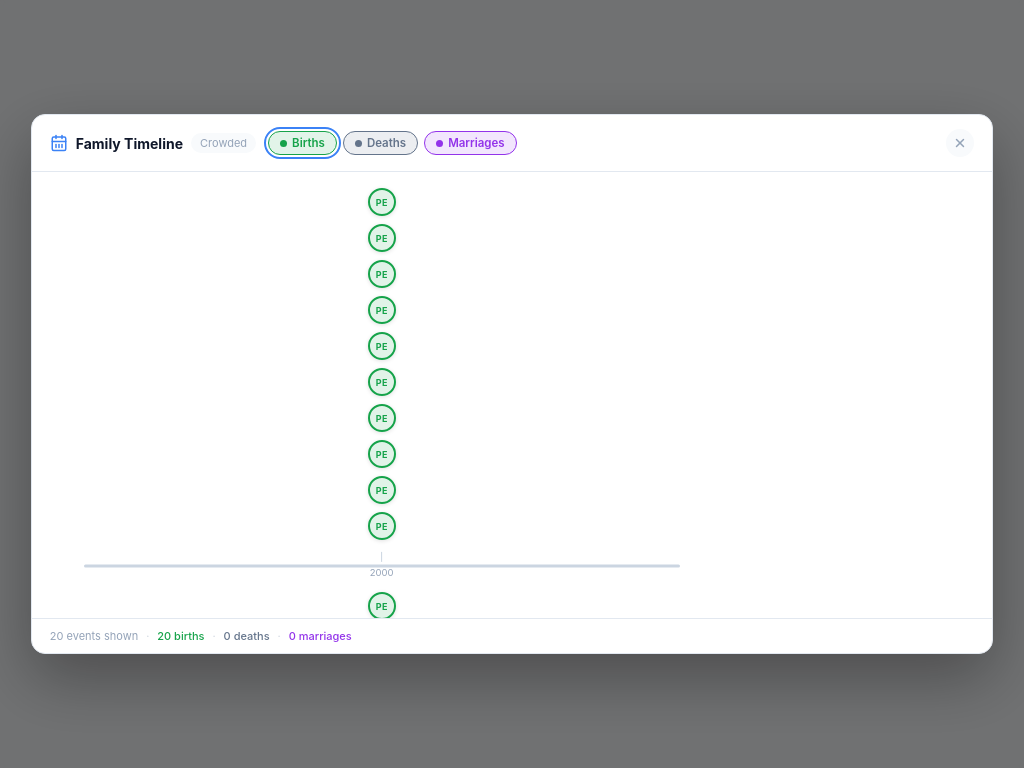
Test: places crowded timeline events separately and exposes details on focus and tap
Focus the 10th button with class "tl-dot" at (382, 526), box [368,512,396,540]
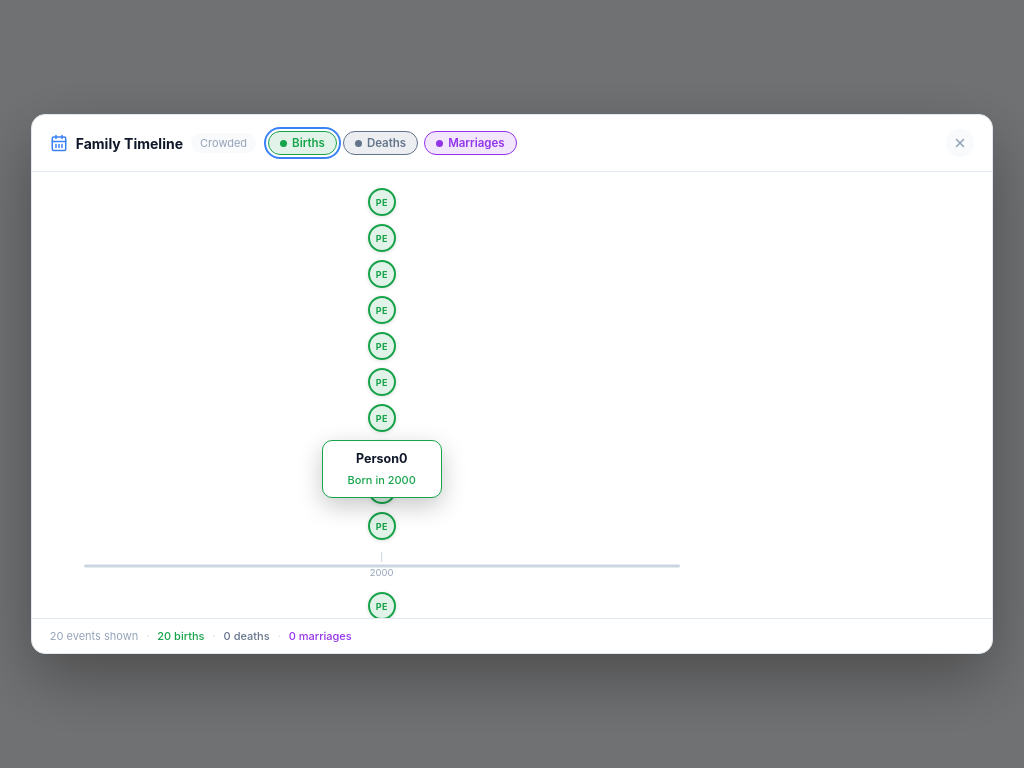
Result: the tooltip shows "Person0" at [356,451,407,466]
Leave the 10th button with class "tl-dot", box [368,512,396,540]
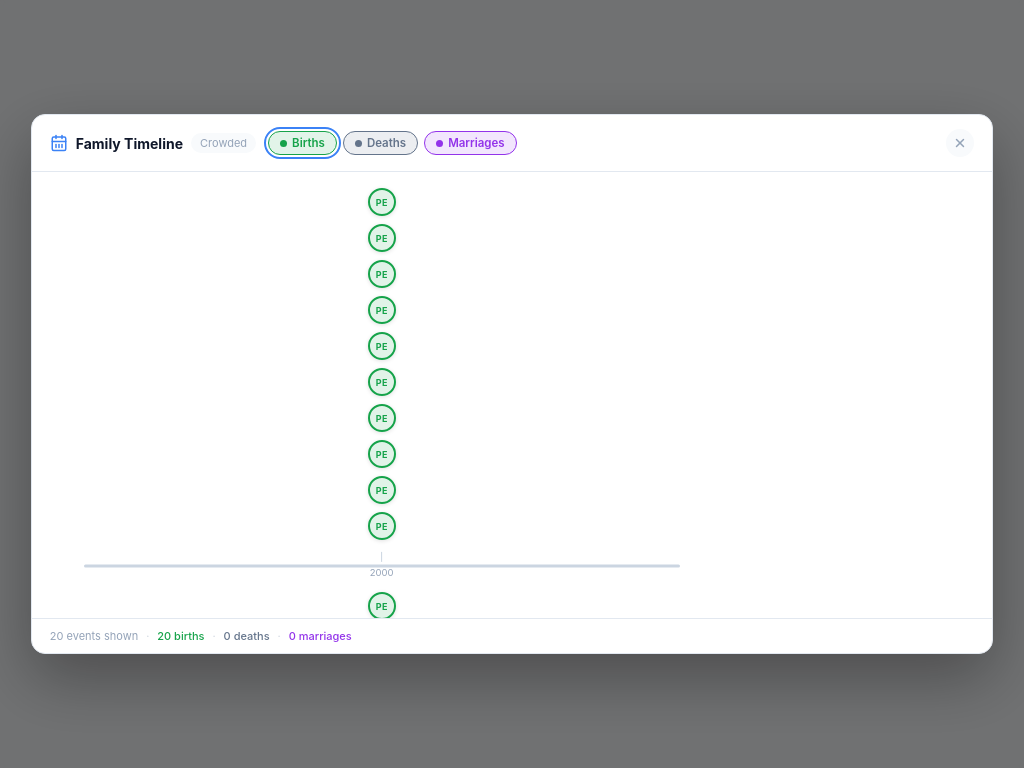
Click the 9th button with class "tl-dot" at (382, 490), box [368,476,396,504]
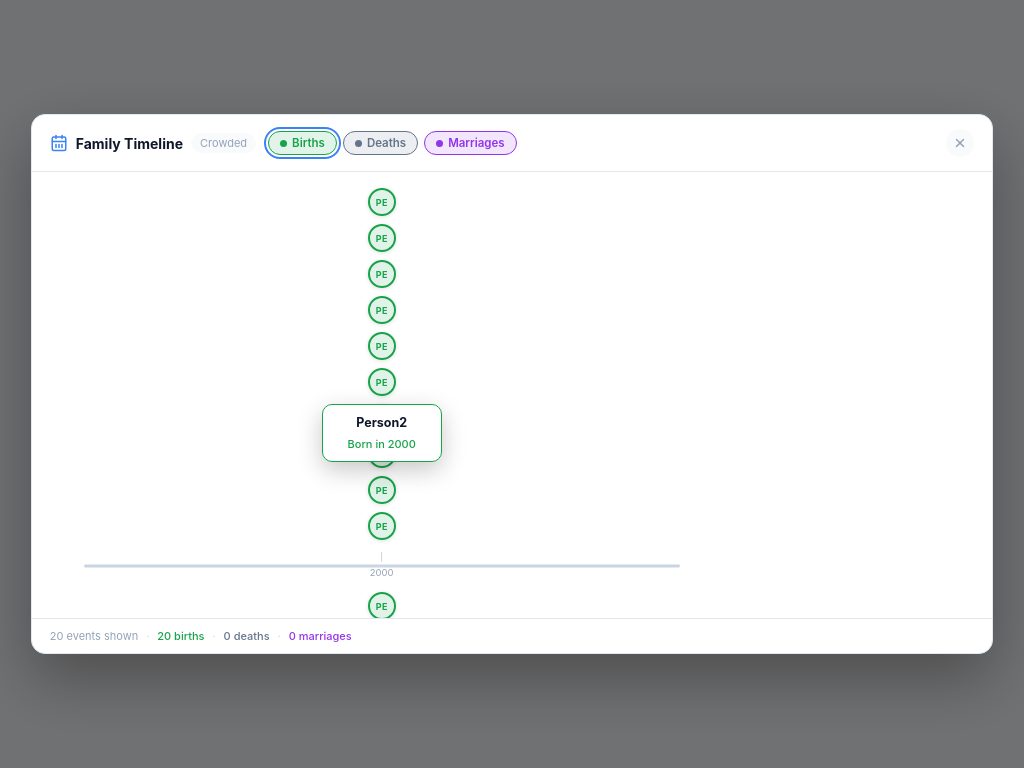
Result: the tooltip shows "Person2" at [356,415,407,430]
